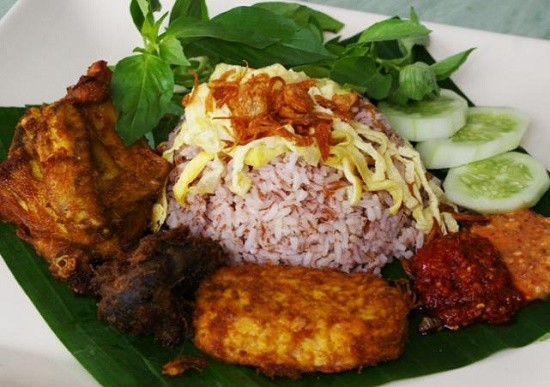Nasi Merah: (172, 80, 415, 259)
